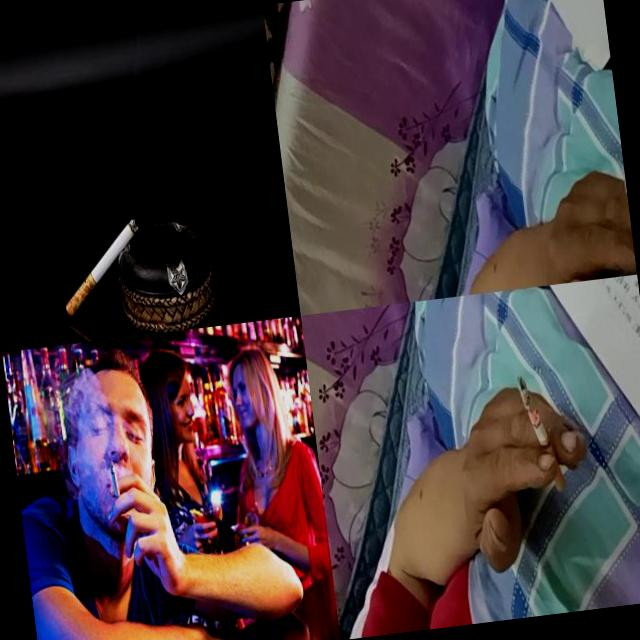smoke: (54, 215, 148, 323), (516, 372, 566, 494), (108, 458, 122, 504)
